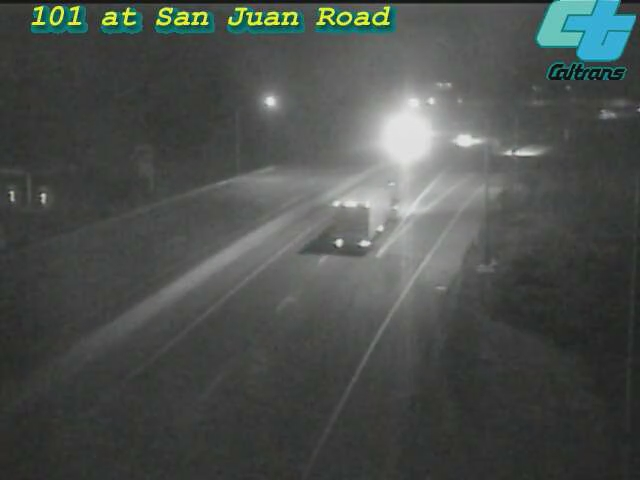vehicle: (330, 173, 410, 253), (379, 112, 429, 162), (587, 88, 637, 138), (440, 116, 490, 166), (490, 128, 540, 178)
